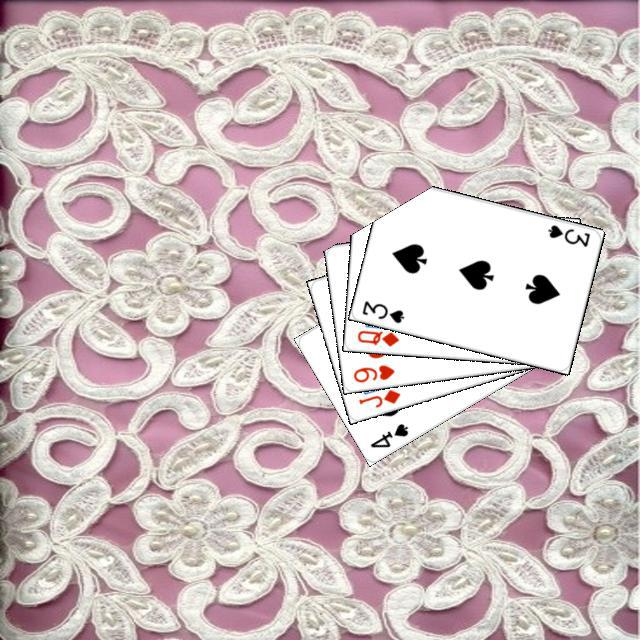3s: (357, 296, 406, 325), (543, 220, 592, 248)
4s: (365, 418, 410, 449)
9h: (348, 360, 397, 384)
Jd: (353, 384, 402, 409)
Qd: (353, 325, 400, 348)
